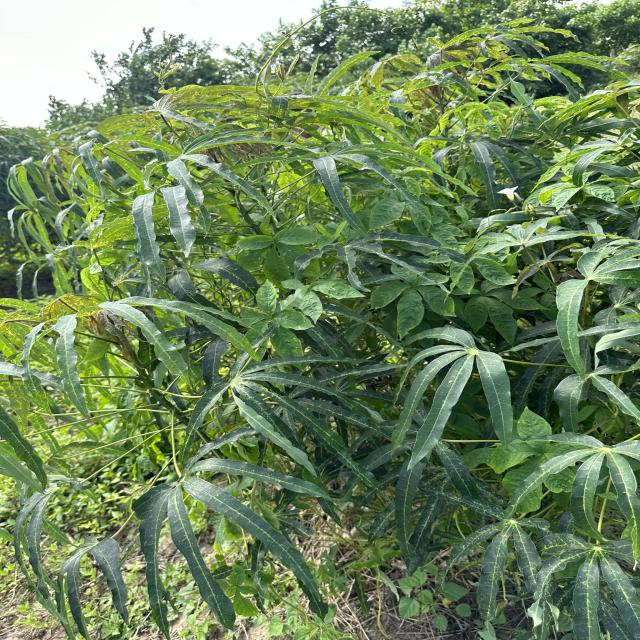Maleza: (225, 260, 315, 357), (452, 273, 554, 348), (507, 404, 584, 501), (424, 215, 513, 296), (377, 247, 447, 324), (304, 246, 363, 311), (250, 238, 332, 274)
